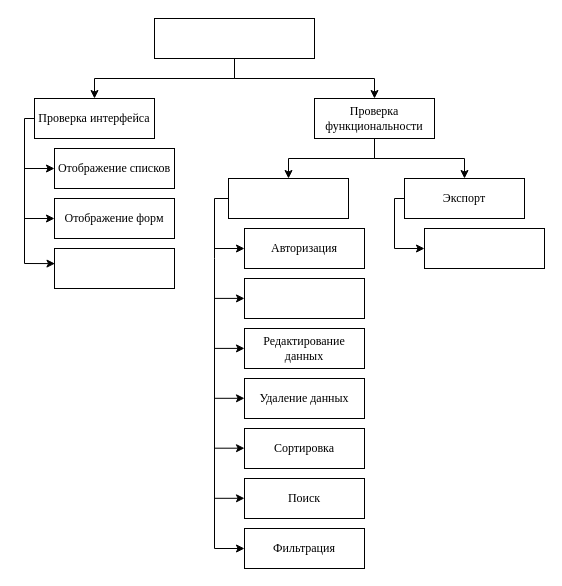
This 562x586 diagram has some shape labels left out. Each missing label, with the centre of its shape:
"Добавление данных" goes at pixel 304 298.
"Нажатие на кнопки" goes at pixel 114 268.
"Пользователя" goes at pixel 288 198.
"Правильность экспорта" goes at pixel 484 248.
"Схема тестирования информационной системы городской телефонной связи" goes at pixel 234 38.
